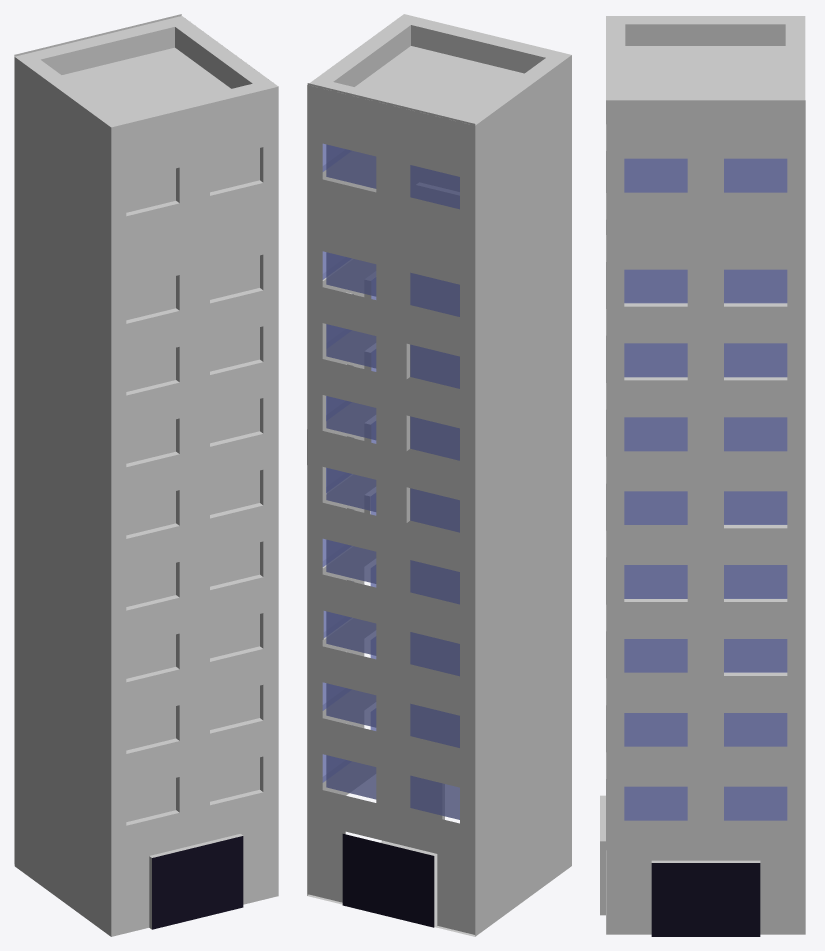
The model's file is apartment.glb.
The picture shows the model from 3 angles, left to right: view 1: azimuth 30°, elevation 25°; view 2: azimuth 150°, elevation 25°; view 3: azimuth 270°, elevation 25°; orthographic projection. The views are drawn at different scales.
Parts seen in each view (by area): view 1: Cube; view 2: Cube; view 3: Cube.
Part boxes in pixels (<box>): Cube: <box>14,14,278,936</box>; Cube: <box>307,14,571,936</box>; Cube: <box>600,16,805,936</box>.
Size of the model in its own units: 2.06 by 9.26 by 2.12.
